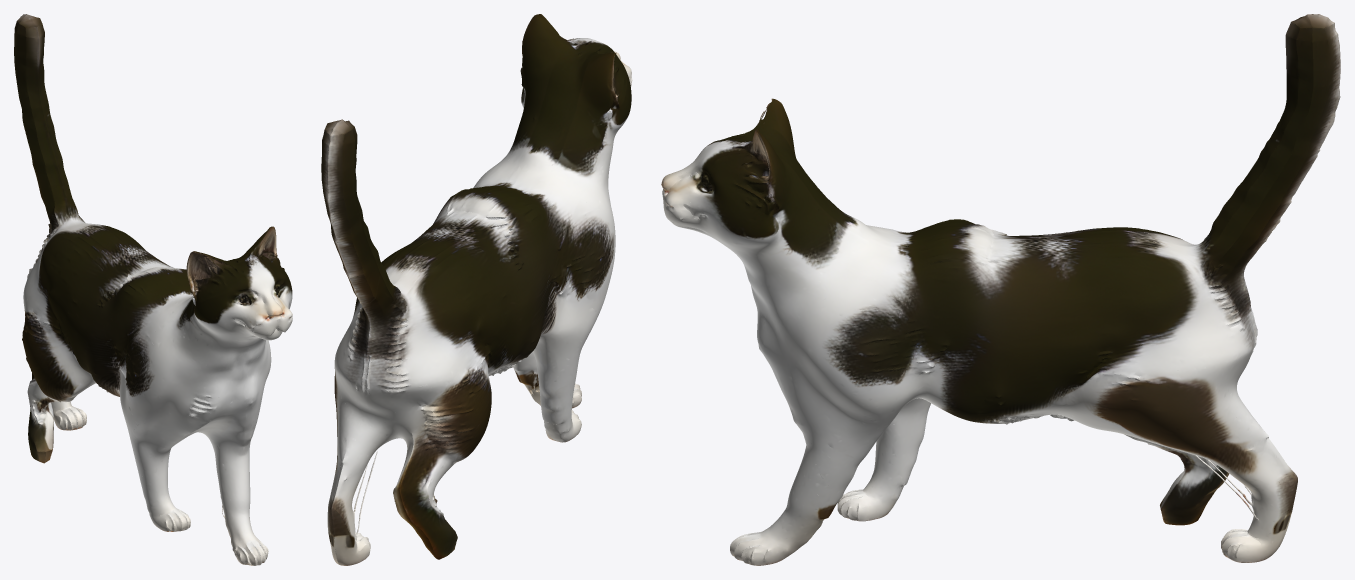
Rendered from cinnamon.glb.
3 views of the same model, side by side, from view 1: azimuth 30°, elevation 25°; view 2: azimuth 150°, elevation 25°; view 3: azimuth 270°, elevation 25° (orthographic). The views are drawn at different scales.
Parts seen in each view (by area): view 1: Object_2, Object_3; view 2: Object_3, Object_2; view 3: Object_2, Object_3.
Boxes of the visible parts, x1,y1,x2,y2 form: Object_2: [14, 14, 292, 565]; Object_3: [14, 21, 286, 565]; Object_3: [322, 14, 632, 563]; Object_2: [321, 14, 632, 565]; Object_2: [661, 14, 1340, 565]; Object_3: [666, 27, 1327, 564].
Size of the model in its own units: 0.5268 by 1.66 by 1.9.
Materials: 1 (1 with a texture image).
